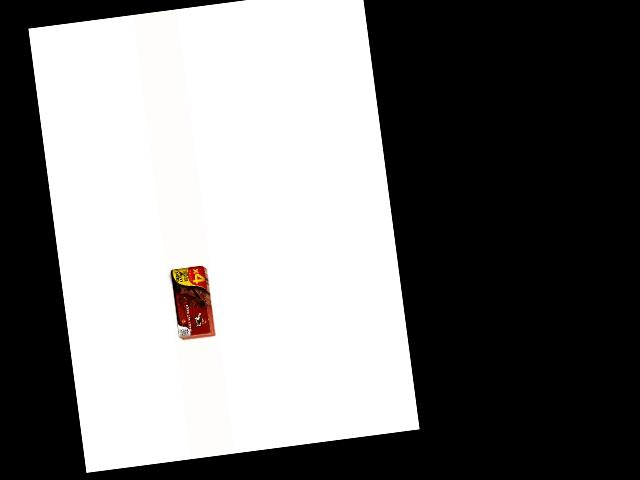chocolate: (168, 264, 215, 339)
